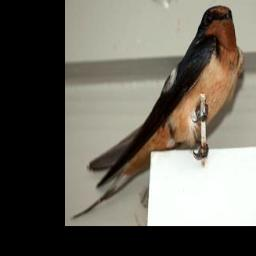Swallow: (69, 4, 239, 215)
